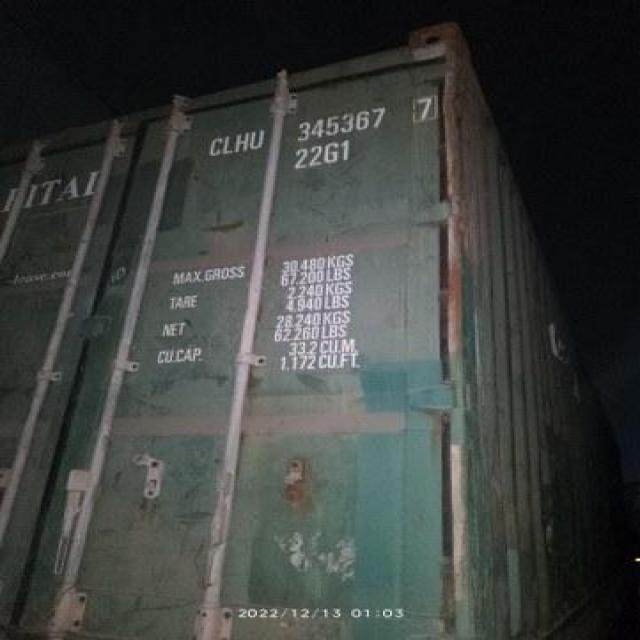container_number_h: (149, 86, 468, 186)
